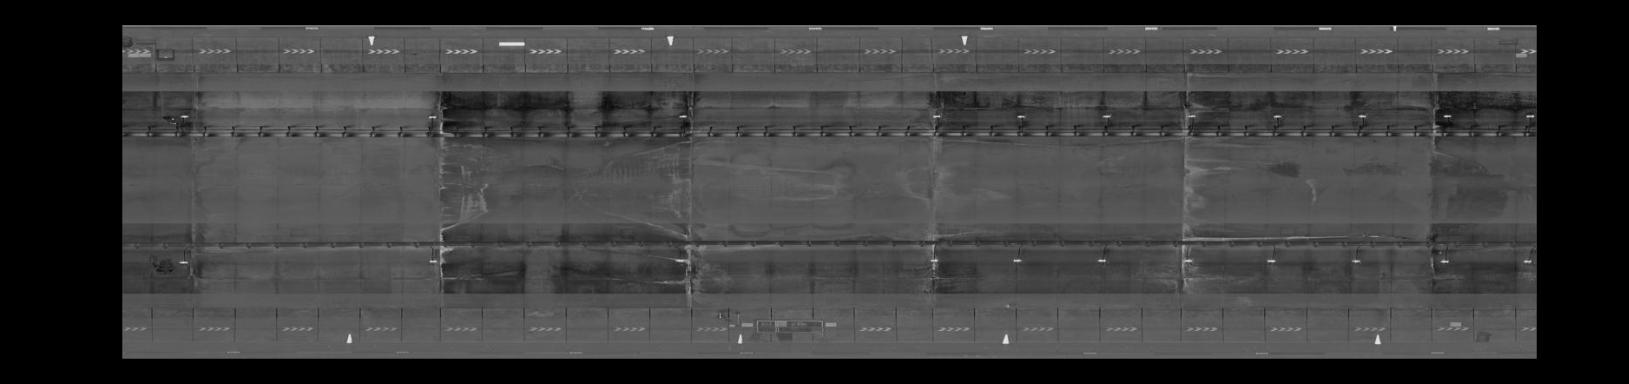light: (1014, 109, 1030, 121), (1008, 255, 1026, 266), (1350, 111, 1369, 120), (1346, 256, 1363, 267), (1438, 112, 1456, 121), (1182, 112, 1200, 121), (1433, 257, 1452, 266), (425, 112, 440, 122), (924, 256, 945, 264), (422, 257, 440, 266), (667, 256, 688, 264), (177, 111, 192, 120), (175, 258, 190, 268), (1267, 112, 1284, 120), (928, 112, 944, 120), (1519, 256, 1533, 266), (1098, 112, 1114, 120), (675, 111, 688, 121), (1178, 257, 1196, 265), (1523, 111, 1535, 120), (1094, 256, 1110, 264), (1263, 257, 1279, 264)
